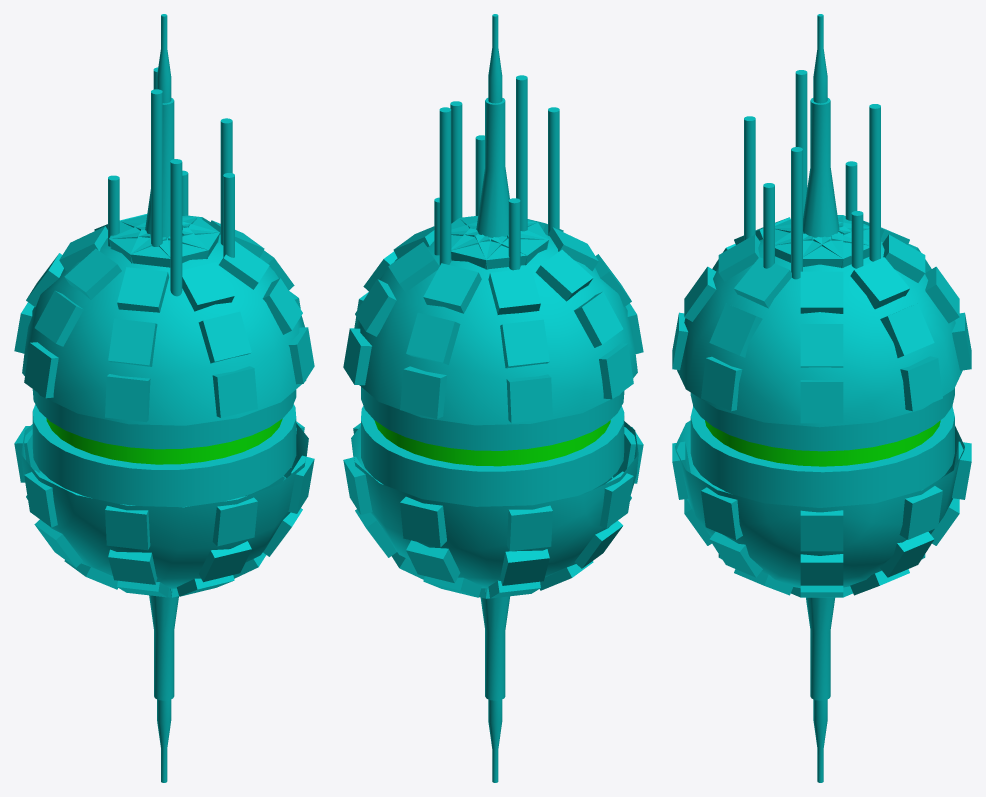
Rendered from Buoy, Ishiman.obj.
3 renders of one model, left to right at view 1: azimuth 30°, elevation 25°; view 2: azimuth 150°, elevation 25°; view 3: azimuth 270°, elevation 25°, orthographic.
Bounding box in the file's own units: 7769 × 21940 × 7769.
